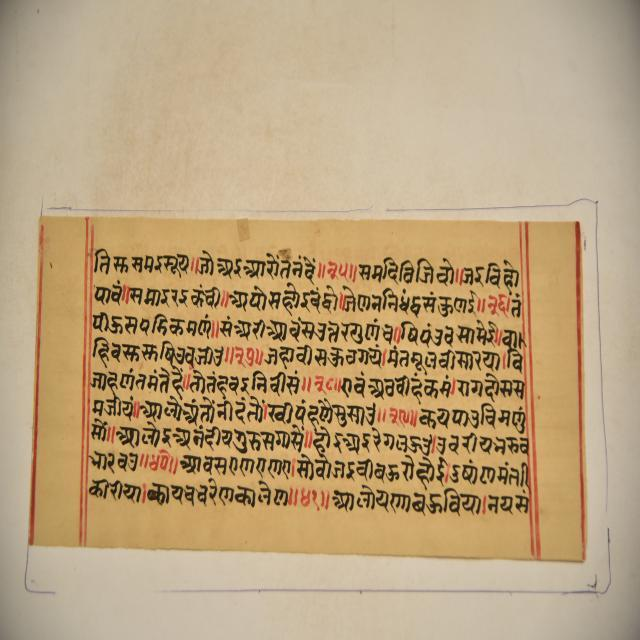text_paragraph: (26, 218, 587, 566)
